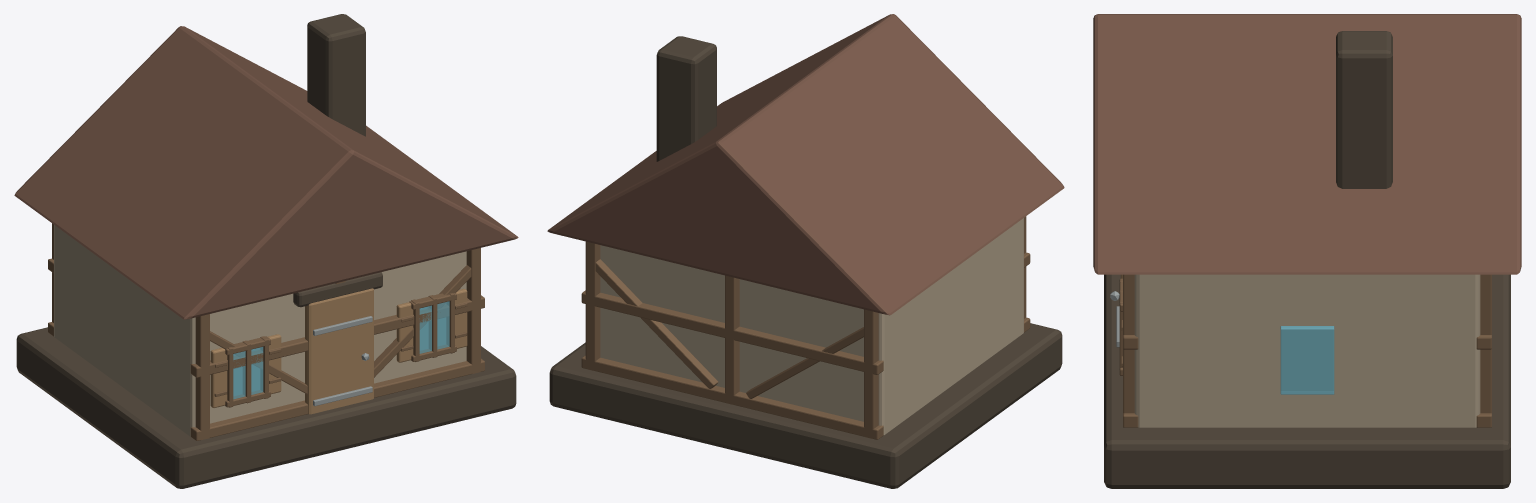
The model's file is house_c.glb.
3 renders of one model, left to right at view 1: azimuth 30°, elevation 25°; view 2: azimuth 150°, elevation 25°; view 3: azimuth 270°, elevation 25°, orthographic. The views are drawn at different scales.
Visible parts, largest first — view 1: Roof, GroundFloor, StoneFoundation, INTERACT_Door, Chimney, TimberBeam, TimberBeam.002, TimberPost, TimberPost.004, DoorStoneLintel, WindowGlass.001, DiagonalBrace.002 (+5 smaller); view 2: Roof, GroundFloor, StoneFoundation, Chimney, TimberBeam.001, TimberBeam.003, DiagonalBrace.003, TimberPost.005, TimberPost.001, TimberPost.003, DiagonalBrace.001; view 3: Roof, GroundFloor, StoneFoundation, Chimney, WindowGlass.003, TimberPost.004, TimberPost.005.
Boxes of the visible parts, <box> form: Roof: <box>14,26,518,319</box>; GroundFloor: <box>54,225,466,436</box>; StoneFoundation: <box>16,327,516,488</box>; INTERACT_Door: <box>305,288,373,414</box>; Chimney: <box>307,14,365,136</box>; TimberBeam: <box>190,358,484,440</box>; TimberBeam.002: <box>190,295,484,377</box>; TimberPost: <box>195,314,209,440</box>; TimberPost.004: <box>466,248,480,373</box>; DoorStoneLintel: <box>293,272,382,307</box>; WindowGlass.001: <box>419,301,449,353</box>; DiagonalBrace.002: <box>374,265,471,377</box>; Roof: <box>547,14,1064,315</box>; GroundFloor: <box>600,218,1023,434</box>; StoneFoundation: <box>549,323,1062,488</box>; Chimney: <box>656,36,716,161</box>; TimberBeam.001: <box>581,355,883,439</box>; TimberBeam.003: <box>581,290,883,374</box>; DiagonalBrace.003: <box>595,259,718,388</box>; TimberPost.005: <box>585,241,600,370</box>; TimberPost.001: <box>864,309,878,438</box>; TimberPost.003: <box>725,275,739,404</box>; DiagonalBrace.001: <box>746,327,863,398</box>; Roof: <box>1093,14,1521,274</box>; GroundFloor: <box>1134,274,1480,427</box>; StoneFoundation: <box>1104,274,1510,488</box>; Chimney: <box>1336,31,1392,188</box>; WindowGlass.003: <box>1280,326,1334,394</box>; TimberPost.004: <box>1123,274,1134,413</box>; TimberPost.005: <box>1480,274,1491,413</box>.
Size of the model in its own units: 6.15 by 5.65 by 5.42.
